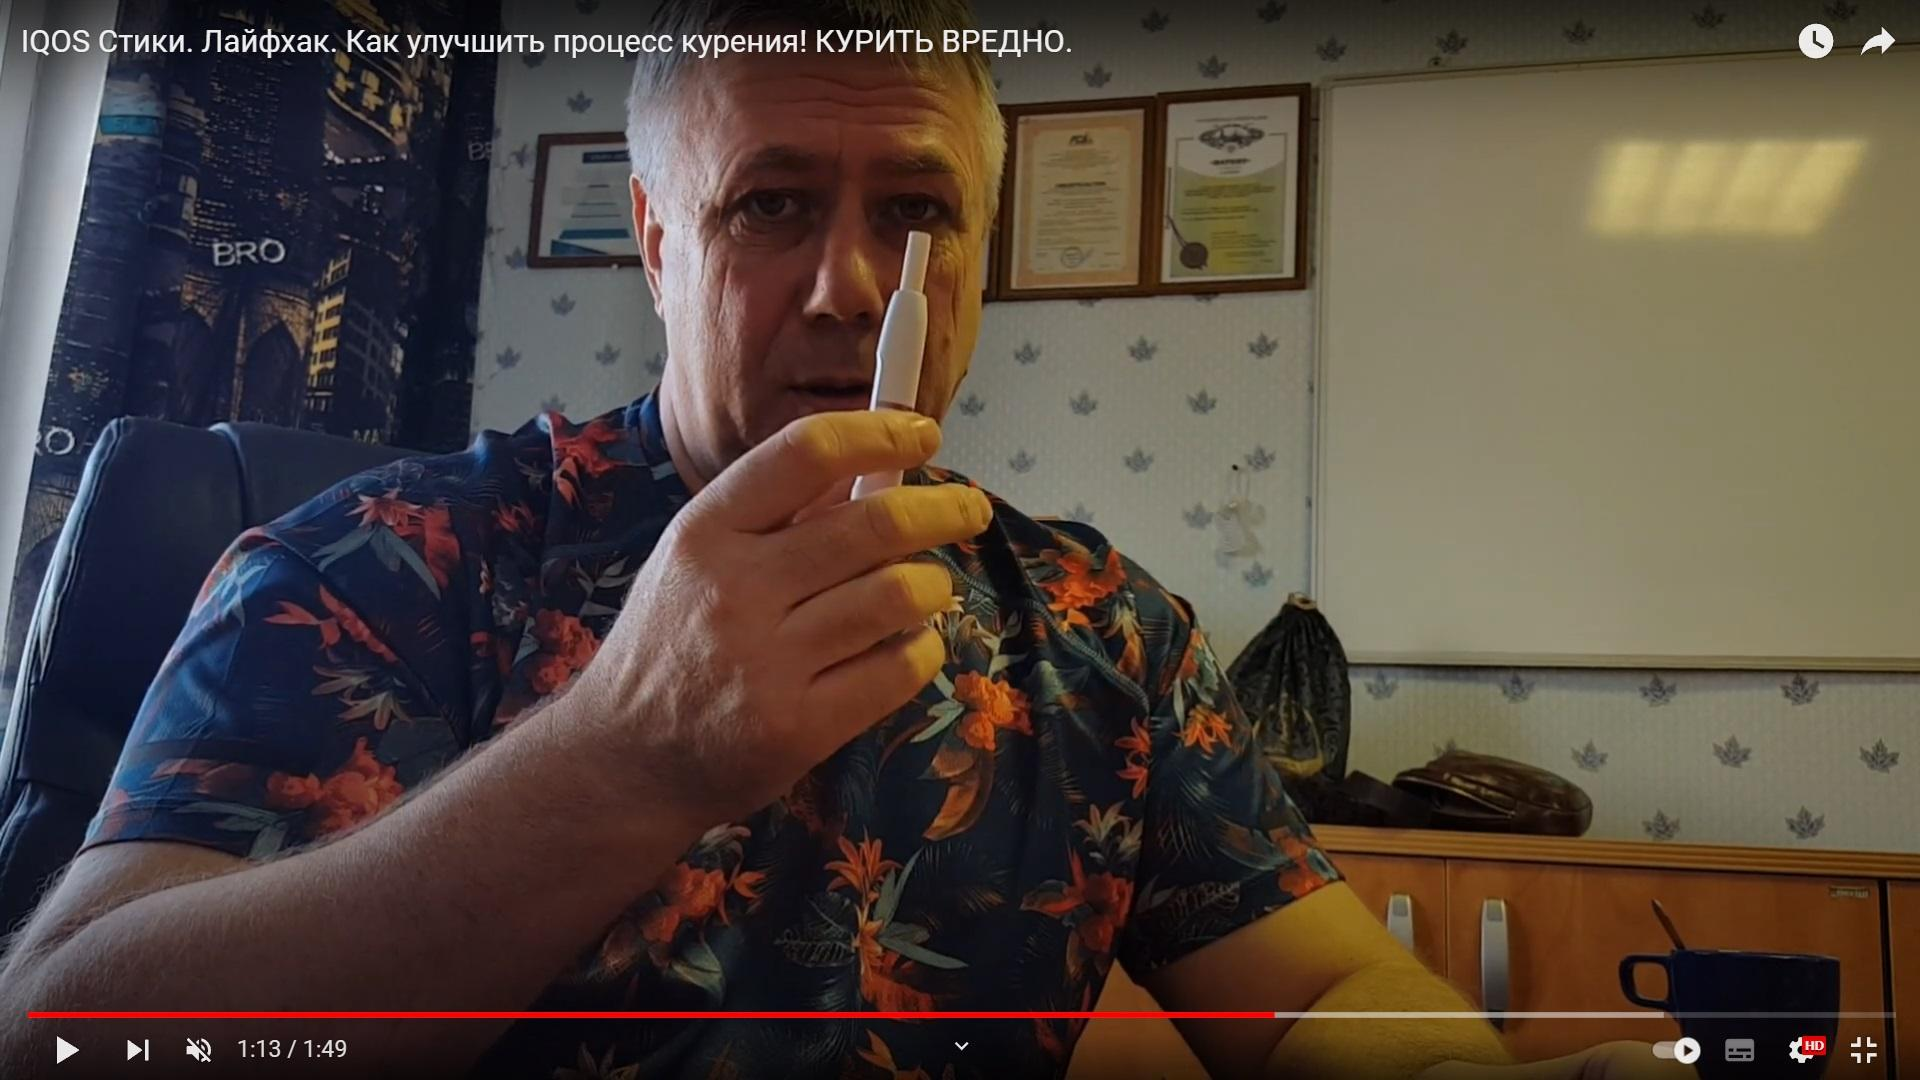iqos: (849, 231, 932, 501)
